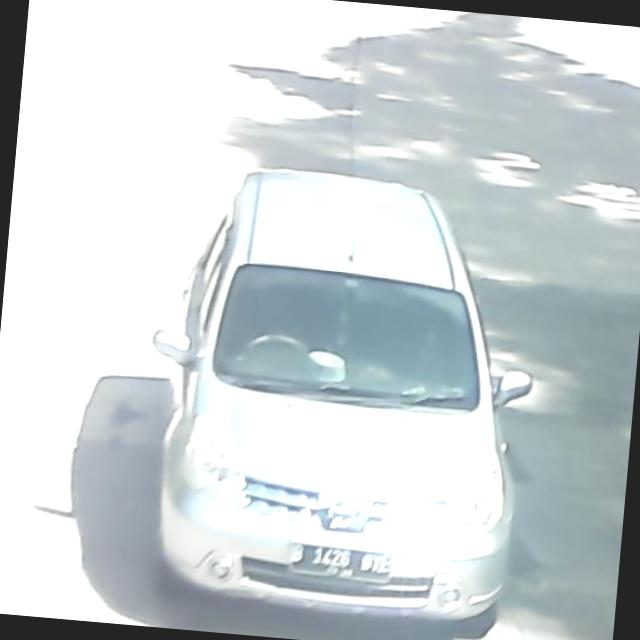plate: (284, 535, 395, 582)
